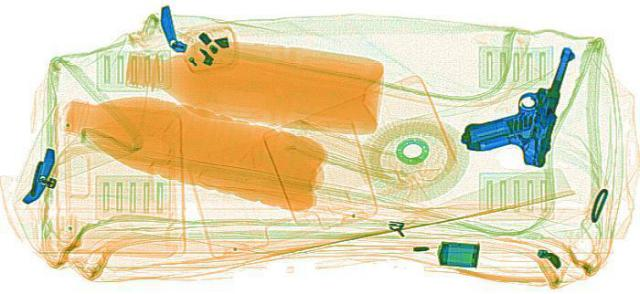Gun: (454, 42, 578, 165)
